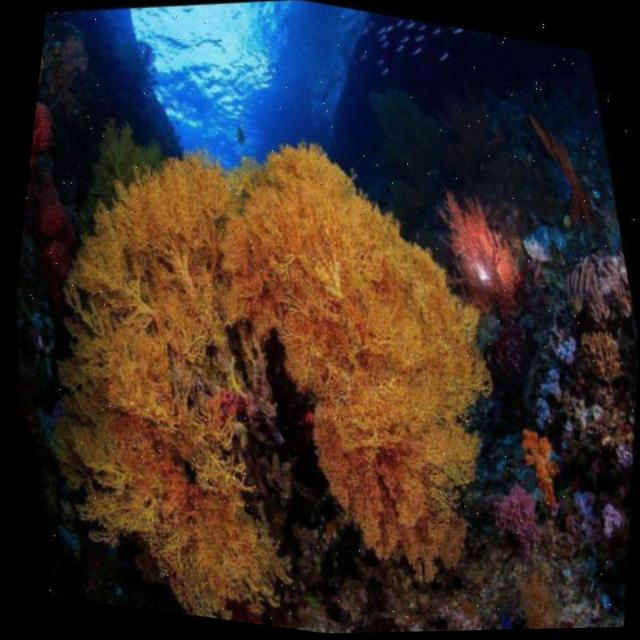Healthy Coral: (2, 39, 617, 640)
